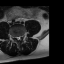CCS_severe_stenosis: (17, 34, 19, 42)
LFS_stenosis: (20, 33, 22, 38)
LLS_normal: (19, 34, 20, 40)
RFS_severe_stenosis: (14, 34, 15, 39)
RLS_normal: (16, 35, 17, 40)
